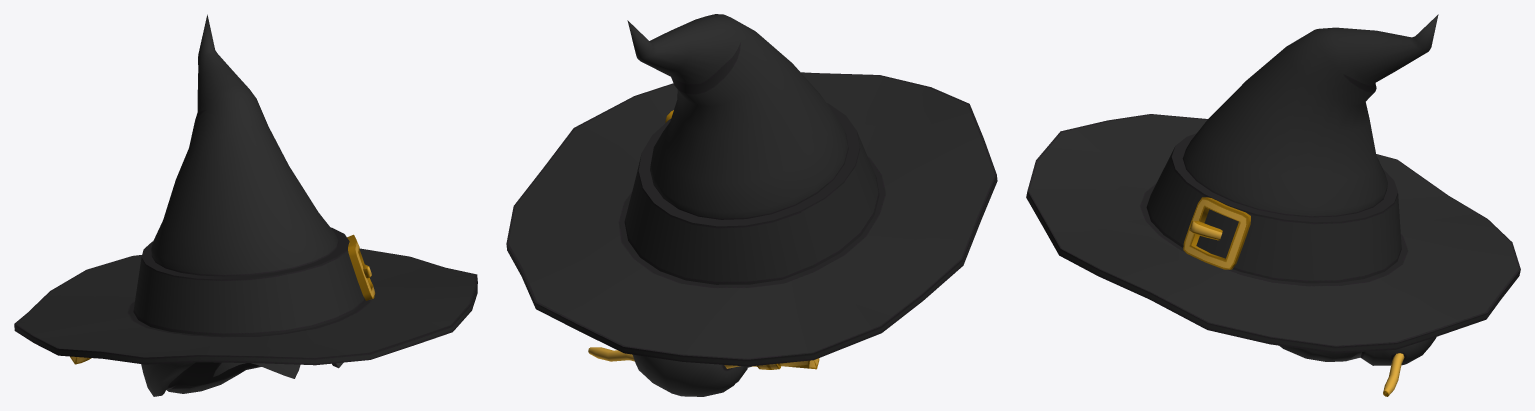
File: 36女巫帽.fbx
The picture shows the model from 3 angles, left to right: view 1: azimuth 30°, elevation 25°; view 2: azimuth 150°, elevation 25°; view 3: azimuth 270°, elevation 25°; orthographic projection. The views are drawn at different scales.
Parts seen in each view (by area): view 1: 36女巫帽; view 2: 36女巫帽; view 3: 36女巫帽.
Boxes of the visible parts, x1,y1,x2,y2 form: 36女巫帽: (14,14,477,396); 36女巫帽: (506,14,997,396); 36女巫帽: (1026,14,1520,396).
Bounding box in the file's own units: 0.842 × 0.7227 × 0.8914.
